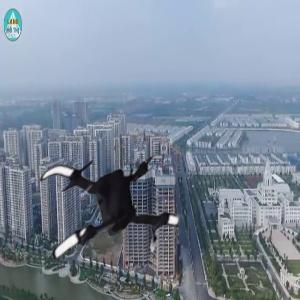drone: (34, 127, 196, 289)
